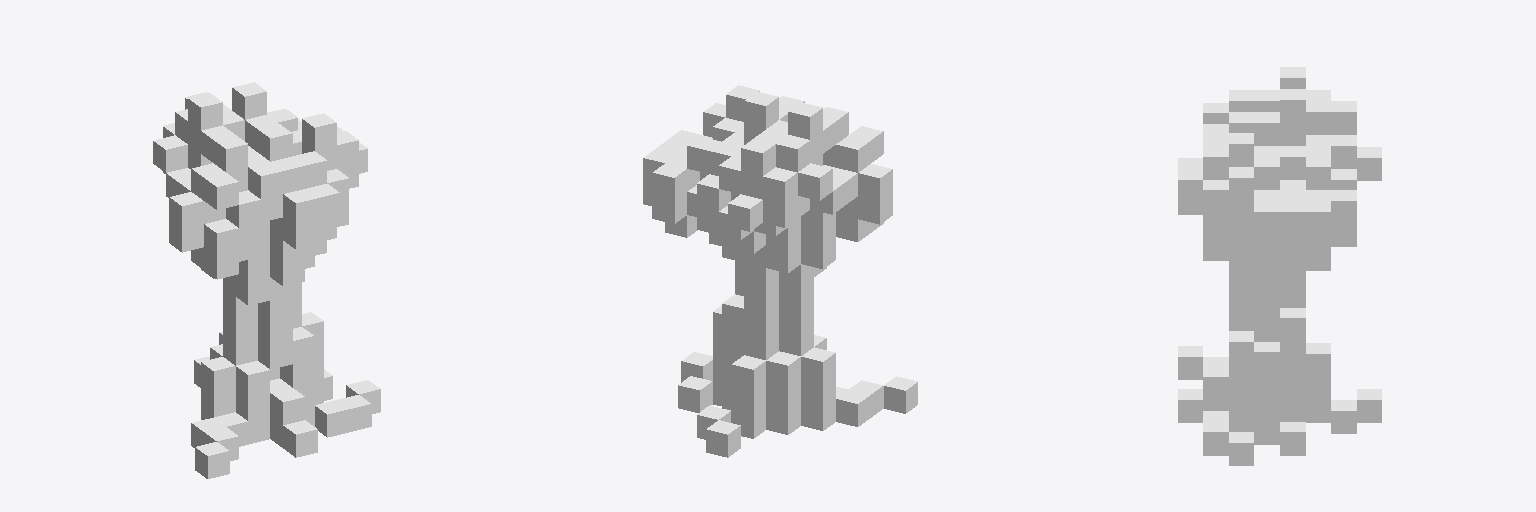
File: Arbre_3.obj
3 views of the same model, side by side, from view 1: azimuth 30°, elevation 25°; view 2: azimuth 150°, elevation 25°; view 3: azimuth 270°, elevation 25° (orthographic).
Parts seen in each view (by area): view 1: Arbre_3; view 2: Arbre_3; view 3: Arbre_3.
Part boxes in pixels (left/top/right/bottom): Arbre_3: left=153, top=82, right=380, bottom=478; Arbre_3: left=643, top=85, right=917, bottom=457; Arbre_3: left=1178, top=67, right=1381, bottom=465.
Size of the model in its own units: 9 by 14 by 8.